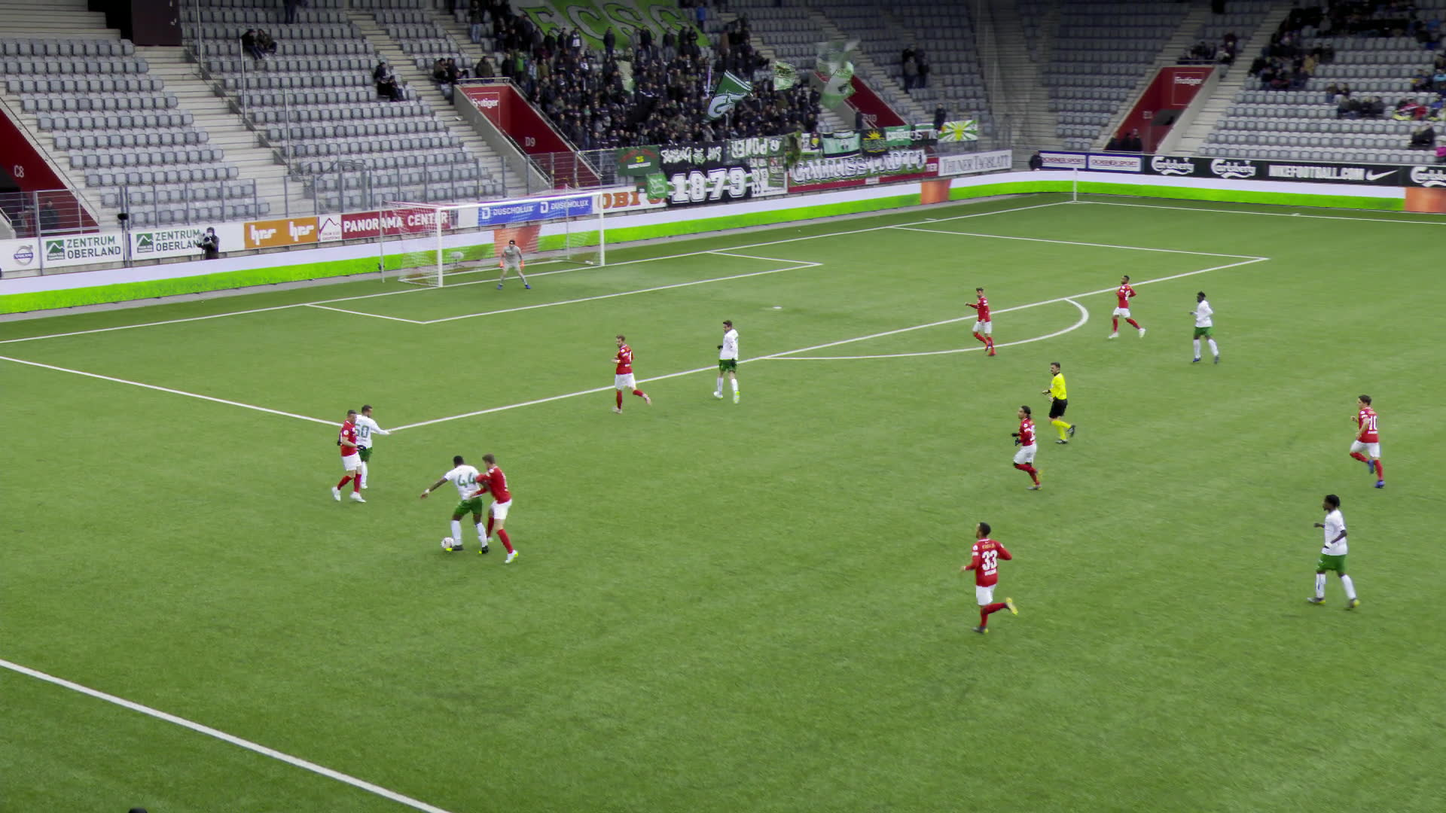ball: (438, 533, 456, 552)
player: (956, 516, 1020, 637), (418, 454, 490, 553), (1305, 492, 1359, 611), (472, 452, 520, 562), (347, 402, 395, 490), (1007, 402, 1052, 491), (1347, 392, 1387, 488), (331, 406, 368, 504), (607, 331, 650, 413), (710, 318, 742, 404), (1106, 274, 1146, 340), (1186, 289, 1220, 366), (962, 284, 997, 356), (493, 237, 530, 291)
referee: (1040, 359, 1080, 444)
